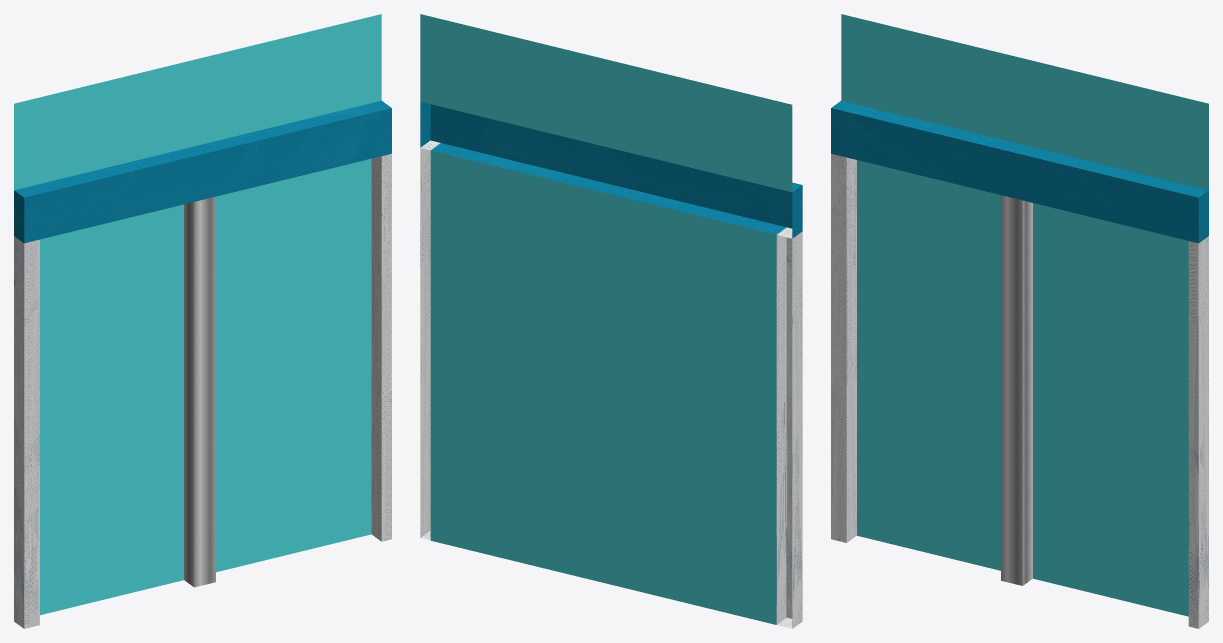
File: window.FBX
The picture shows the model from 3 angles, left to right: view 1: azimuth 30°, elevation 25°; view 2: azimuth 150°, elevation 25°; view 3: azimuth 330°, elevation 25°; orthographic projection.
Visible parts, largest first — view 1: ID12, SketchUp, ID20, ID33, ID46, ID56; view 2: ID12, SketchUp, ID20, ID46, ID56; view 3: ID12, SketchUp, ID20, ID33, ID46, ID56.
Part boxes in pixels (x1,y1,x2,y2): ID12: [40, 158, 371, 615]; SketchUp: [14, 14, 381, 190]; ID20: [14, 100, 391, 243]; ID33: [184, 196, 215, 587]; ID46: [14, 236, 39, 628]; ID56: [371, 153, 391, 541]; ID12: [430, 150, 776, 624]; SketchUp: [420, 14, 792, 192]; ID20: [420, 101, 802, 238]; ID46: [776, 227, 802, 628]; ID56: [420, 140, 440, 540]; ID12: [857, 160, 1188, 616]; SketchUp: [841, 14, 1208, 190]; ID20: [831, 100, 1208, 243]; ID33: [1001, 195, 1032, 585]; ID46: [831, 153, 856, 542]; ID56: [1188, 236, 1208, 628].
Bounding box in the file's own units: 38.12 × 51.31 × 1.81.
5 materials, 2 textured.
